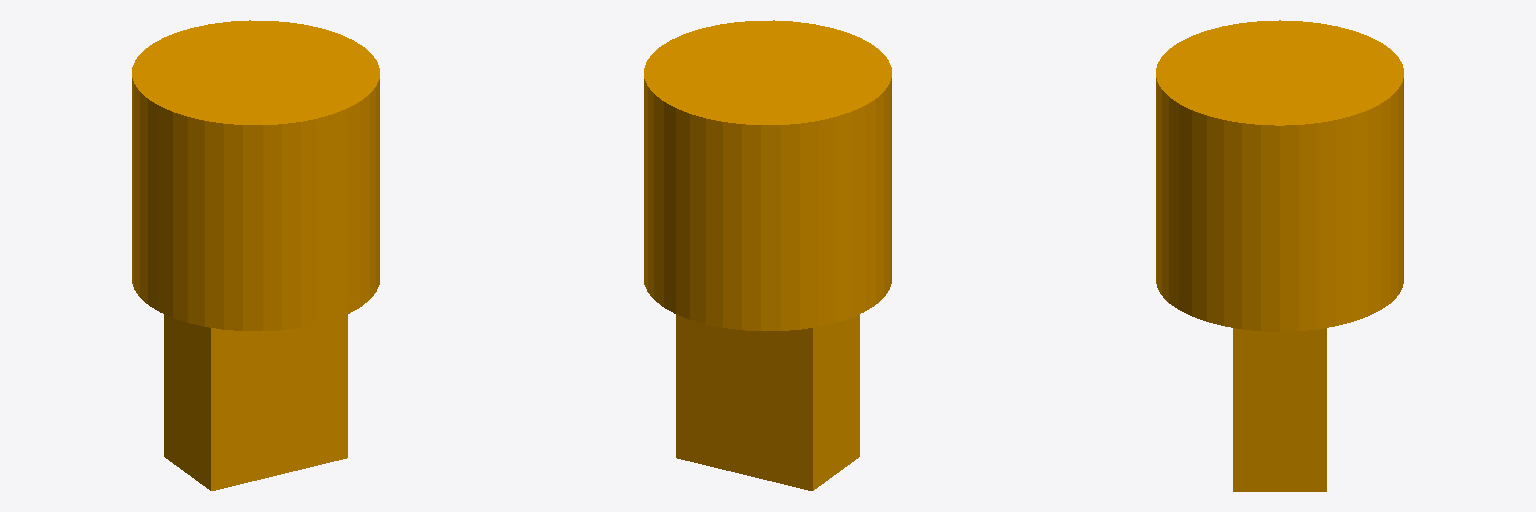
robot.urdf — peg_rectangle:
<?xml version='1.0' encoding='utf-8'?>
<robot name="peg_rectangle">
  <link name="body">
    <inertial>
      <origin xyz="6.353947954835734e-19 0.0 0.08773336921306975" />
      <mass value="0.12" />
      <inertia ixx="0.00019285185281408233" iyy="0.00019650250146760088" izz="8.701442172743084e-05" ixy="1.389926115120317e-21" ixz="1.3466983627744911e-20" iyz="1.3555088970316232e-20" />
    </inertial>
    <collision>
      <geometry>
        <mesh filename="part_00.obj" />
      </geometry>
    </collision>
    <collision>
      <geometry>
        <mesh filename="part_01.obj" />
      </geometry>
    </collision>
    <visual>
      <geometry>
        <mesh filename="visual.obj" />
      </geometry>
    </visual>
  </link>
</robot>

--- Render facts (derived) ---
3 views of the same robot in one strip: view 1: azimuth 30°, elevation 25°; view 2: azimuth 150°, elevation 25°; view 3: azimuth 270°, elevation 25° (orthographic).
Robot: peg_rectangle — 1 links, 0 joints (none); root link body; default pose: every joint at zero.
Links seen in each view (by area): view 1: body; view 2: body; view 3: body.
Link boxes in pixels (x1,y1,x2,y2): body: (132,20,379,490); body: (644,20,891,490); body: (1156,20,1403,491).
Bounding box of the posed robot: 0.082 × 0.082 × 0.14 m (x, y, z).
Meshes: 1 distinct files referenced, 1 mesh visuals loaded (1 OBJ).
